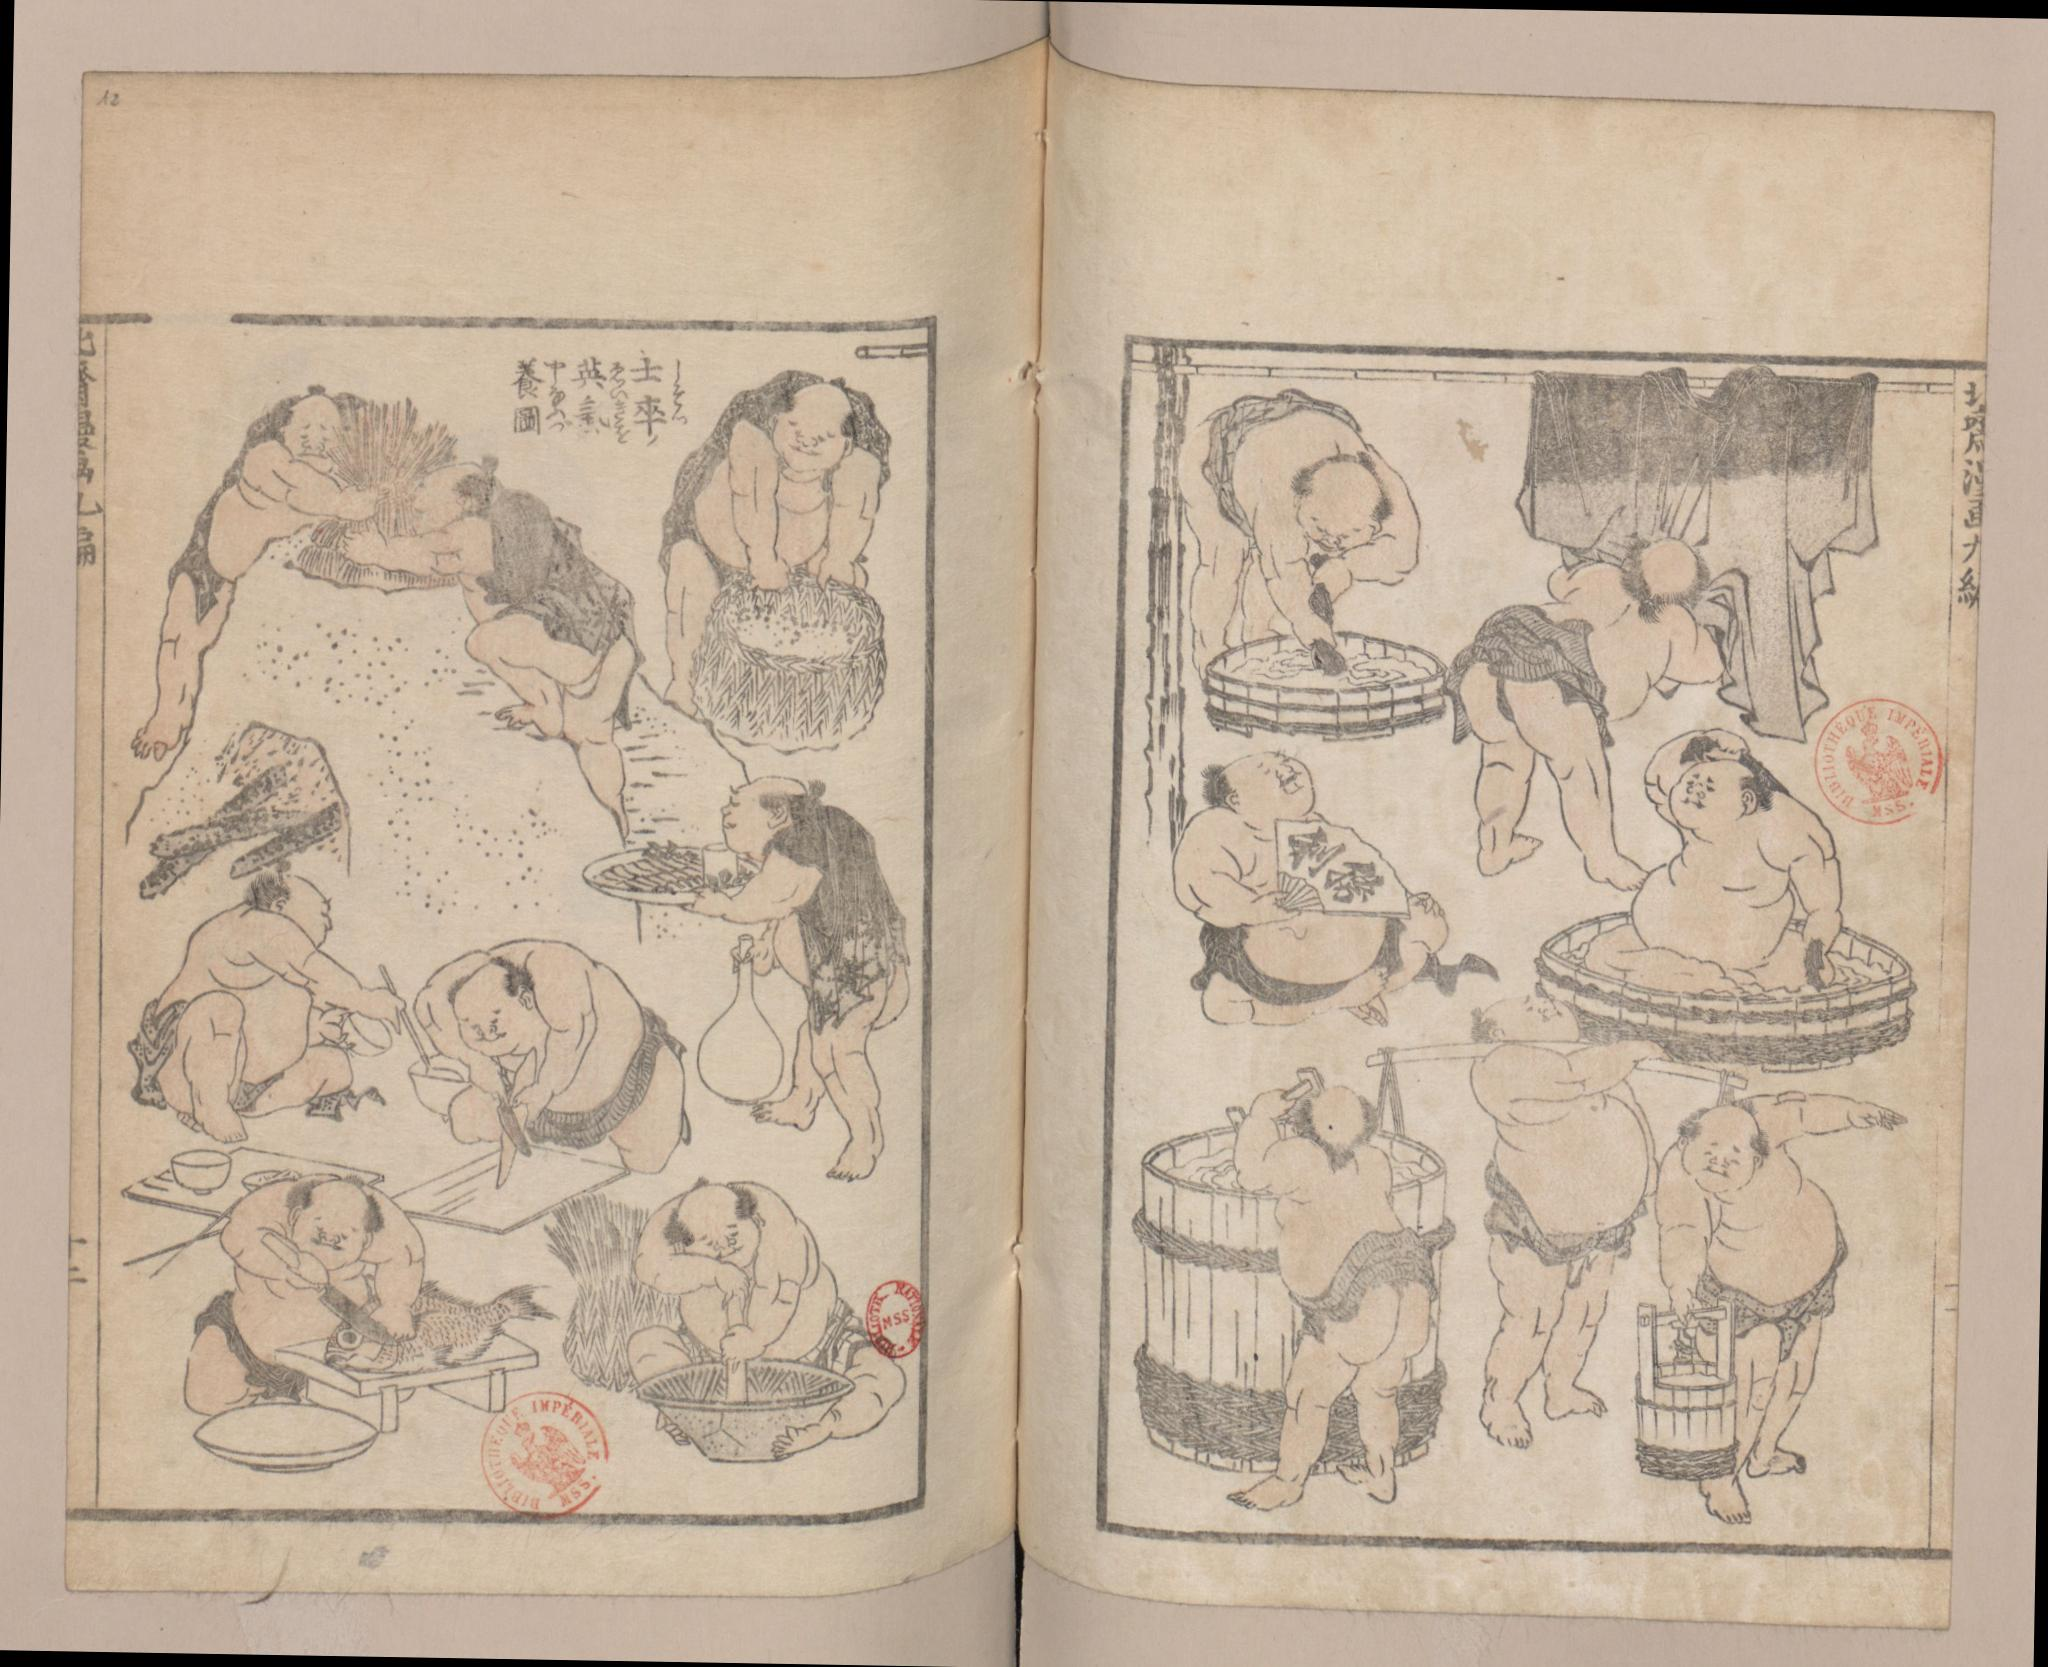MainZone-Character: (509, 354, 570, 403), (575, 396, 636, 446), (634, 395, 689, 447), (631, 350, 689, 395), (575, 354, 631, 398), (510, 401, 577, 435)
MainZone-Ruby: (611, 398, 633, 444), (544, 357, 568, 400), (544, 403, 573, 432), (607, 357, 628, 396), (670, 356, 687, 393), (668, 395, 689, 425)
